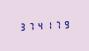four: (36, 20, 44, 31)
nine: (63, 19, 71, 29)
one: (45, 19, 53, 30)
seven: (26, 20, 34, 31), (54, 19, 62, 30)
three: (17, 21, 25, 31)
